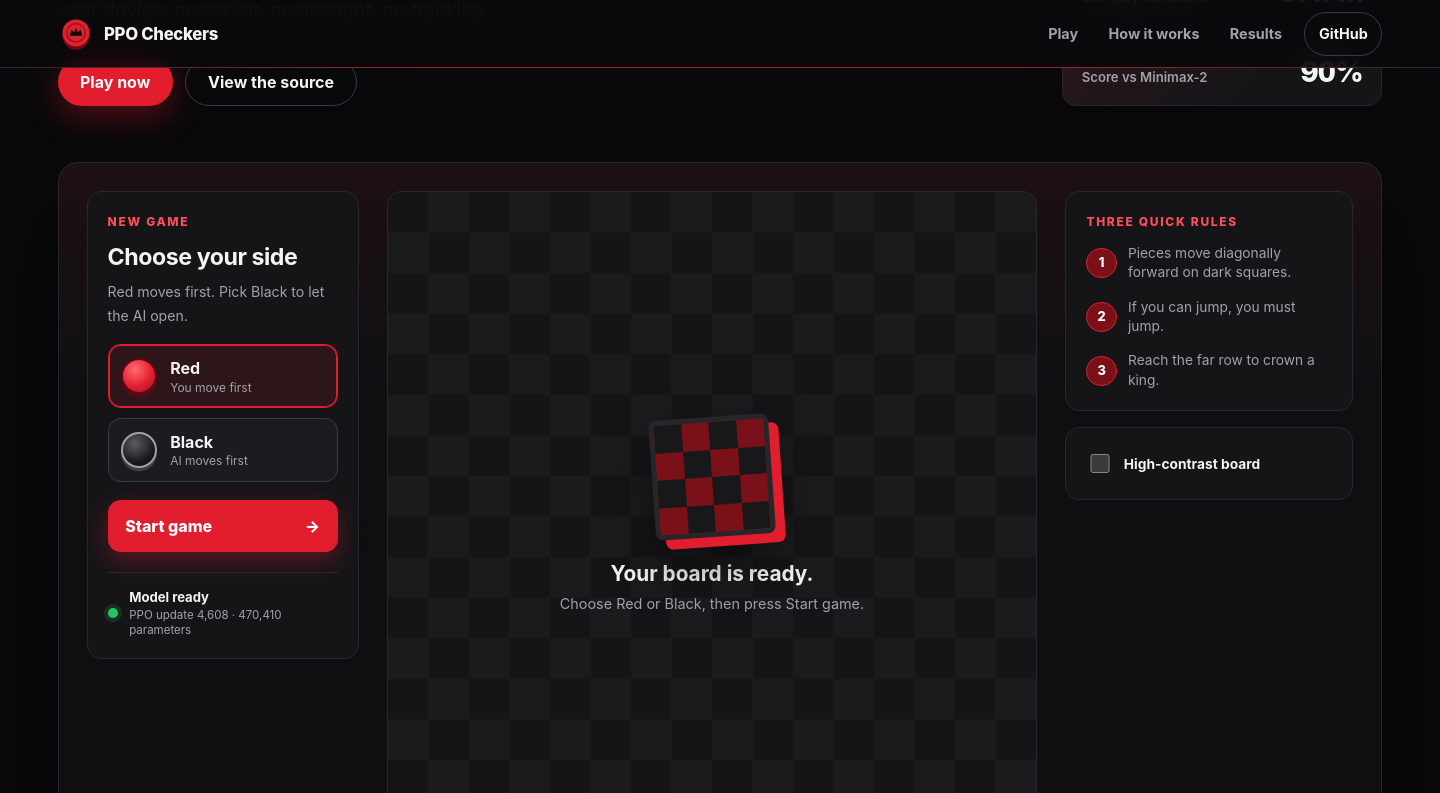
it: PPO Checkers application › lets the AI open as Red when the player picks Black, then shows its evaluation
(page scrolled)
Step 1. Click the button "Black AI moves first" → (223, 450), box [108, 418, 338, 482]
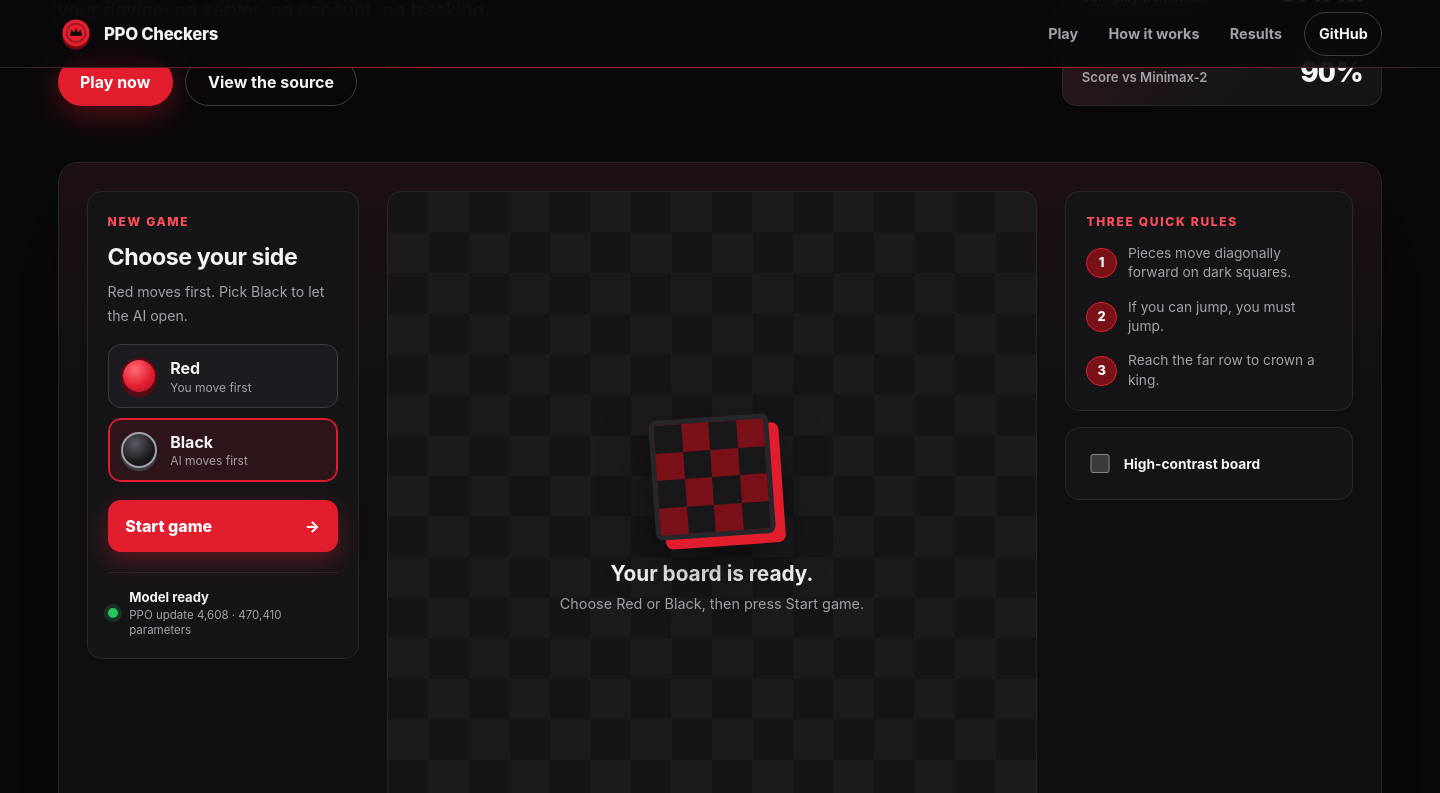
Step 2. Click the button "Start game →" → (223, 526), box [108, 500, 338, 552]
(page scrolled)
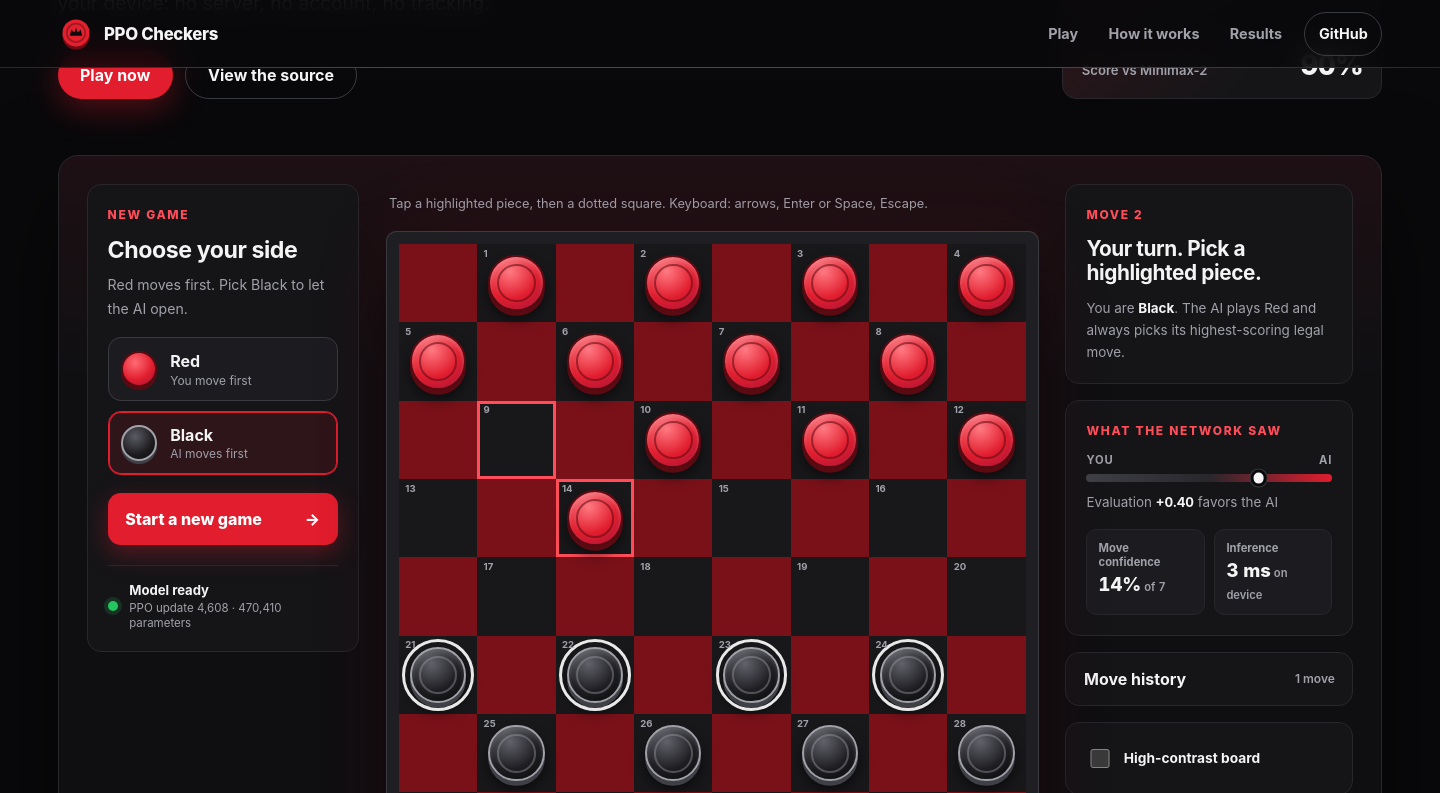
Now the heading "Your turn. Pick a highlighted piece." is shown, box [1086, 236, 1262, 285]
Now the text "1 move" is shown, box [1295, 671, 1335, 686]
Now the text "Evaluation +0.40 favors the AI" is shown, box [1086, 494, 1278, 510]
